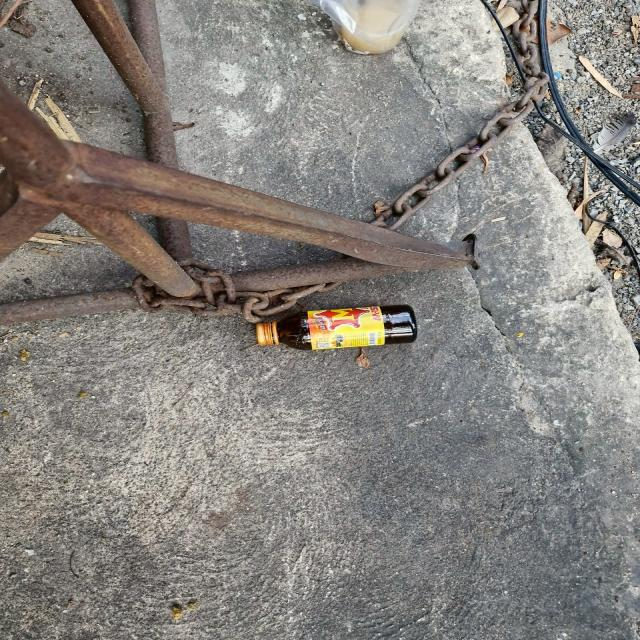glass bottle: (252, 306, 437, 352)
